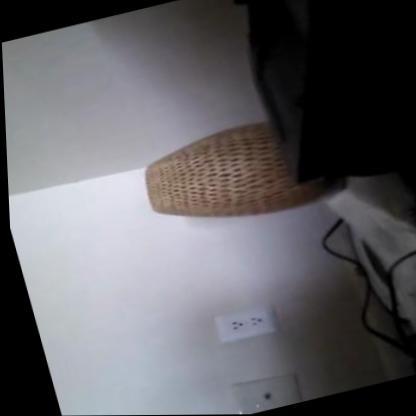OUTLET: (212, 304, 277, 347)
